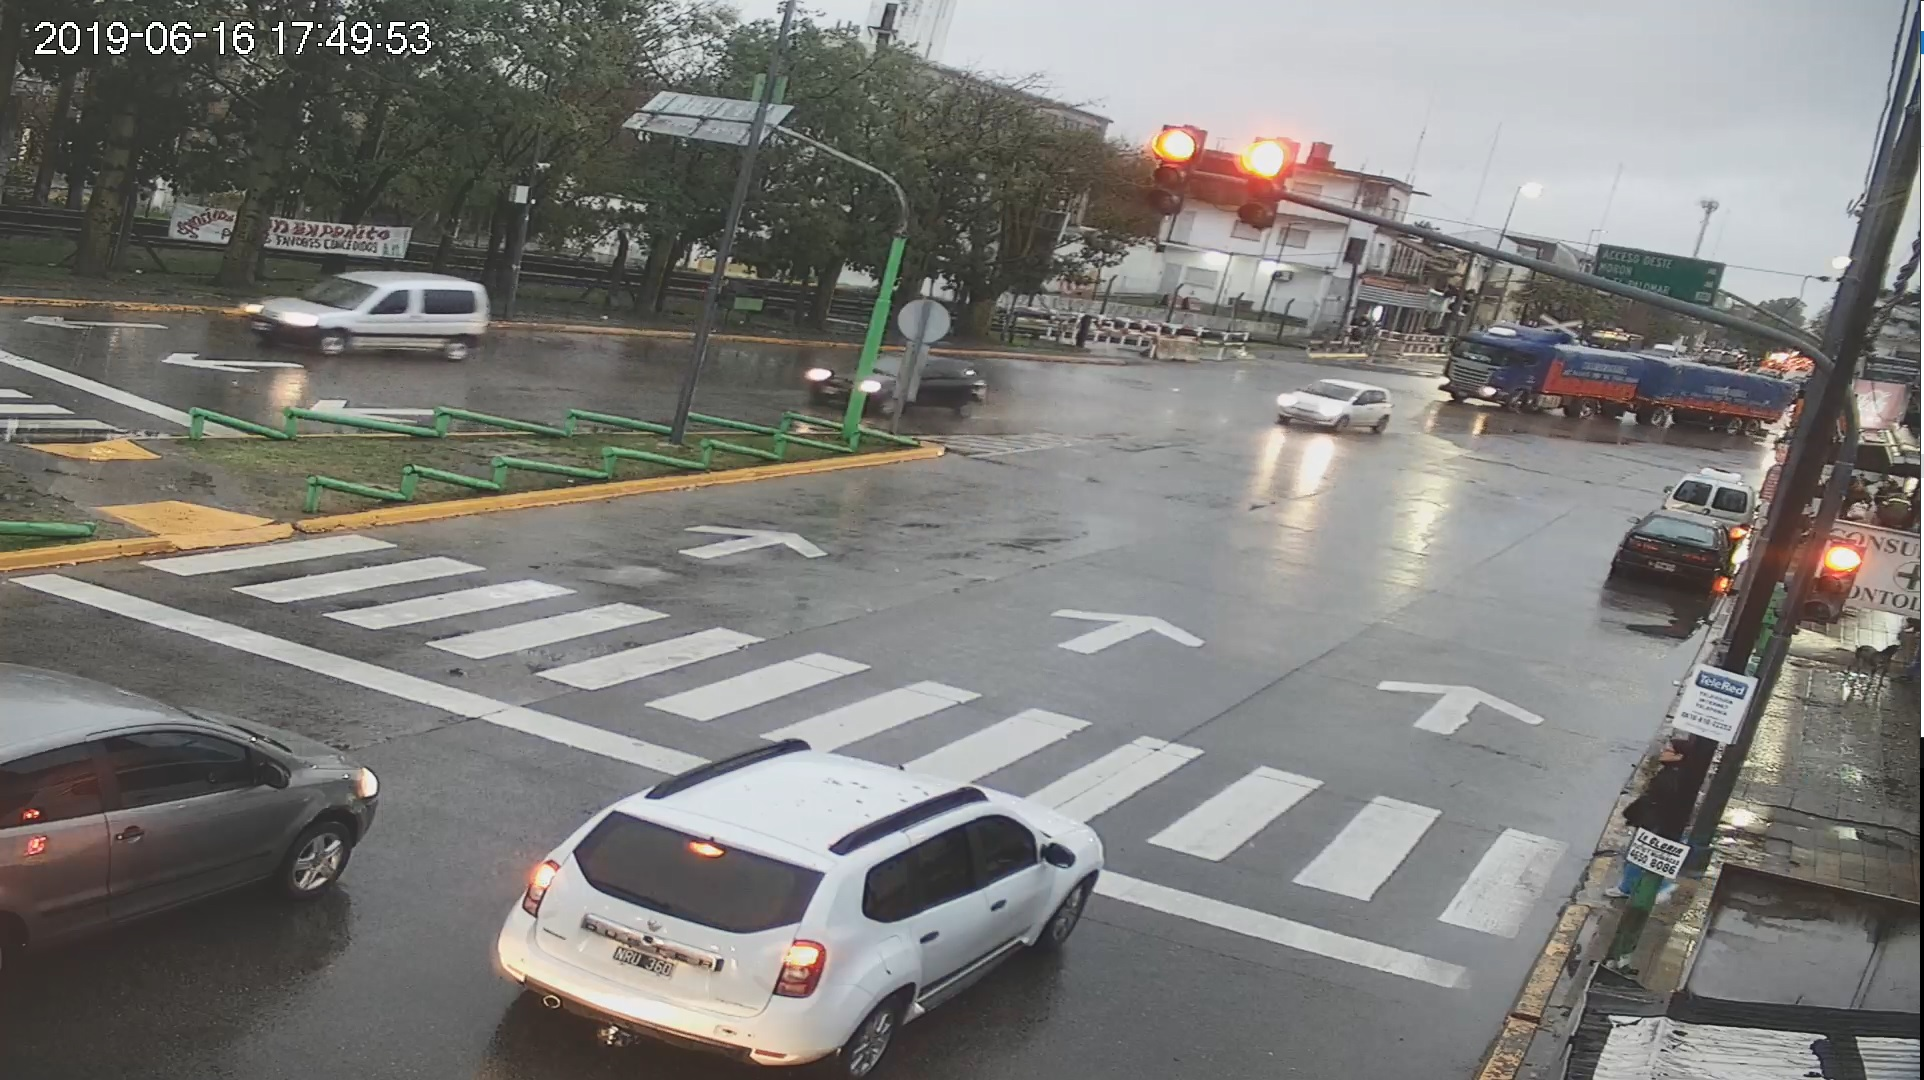car: (493, 736, 1110, 1080), (1, 662, 382, 968), (246, 260, 490, 367), (795, 336, 980, 426), (1607, 494, 1724, 601), (1271, 373, 1391, 436)
truck: (1436, 327, 1805, 443)
